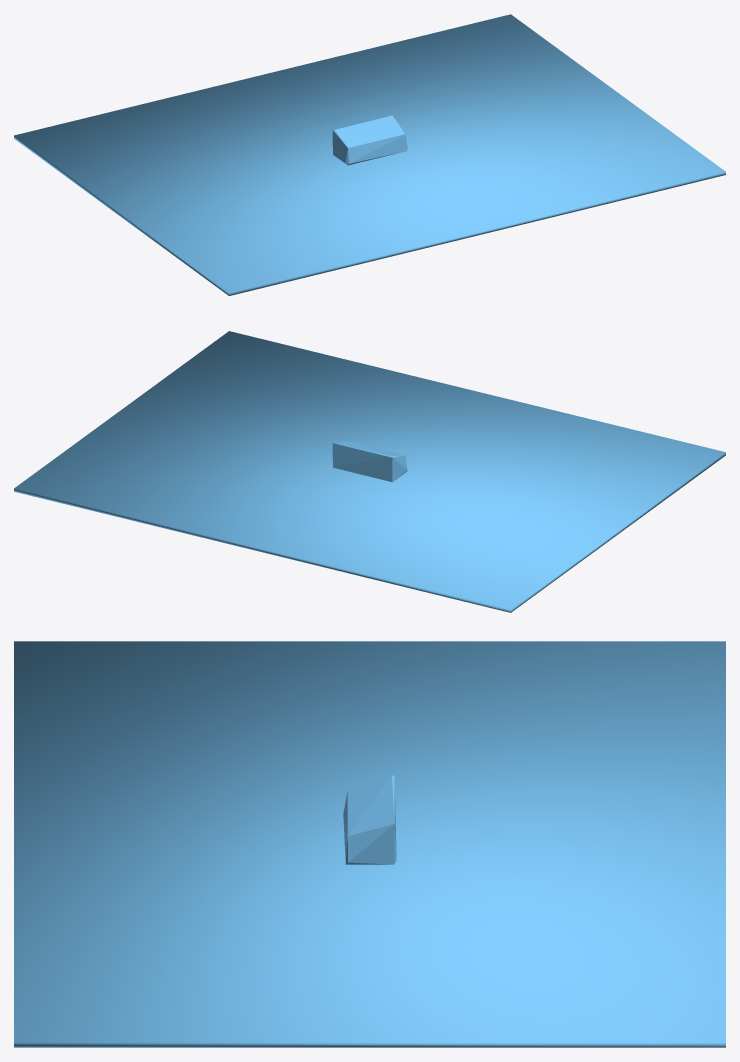
The model's file is Test_PHYS.dae.
3 views of the same model, one above another, from view 1: azimuth 30°, elevation 25°; view 2: azimuth 150°, elevation 25°; view 3: azimuth 270°, elevation 25° (orthographic). The views are drawn at different scales.
Visible parts, largest first — view 1: T_Floor_PHYS, T_Sofa_PHYS; view 2: T_Floor_PHYS, T_Sofa_PHYS; view 3: T_Floor_PHYS, T_Sofa_PHYS.
Boxes of the visible parts, left/top/right/bottom form: T_Floor_PHYS: left=14, top=14, right=725, bottom=295; T_Sofa_PHYS: left=332, top=115, right=407, bottom=165; T_Floor_PHYS: left=14, top=331, right=725, bottom=612; T_Sofa_PHYS: left=332, top=441, right=407, bottom=482; T_Floor_PHYS: left=14, top=641, right=725, bottom=1047; T_Sofa_PHYS: left=343, top=775, right=396, bottom=864.
Bounding box in the file's own units: 16 × 12 × 1.1.
